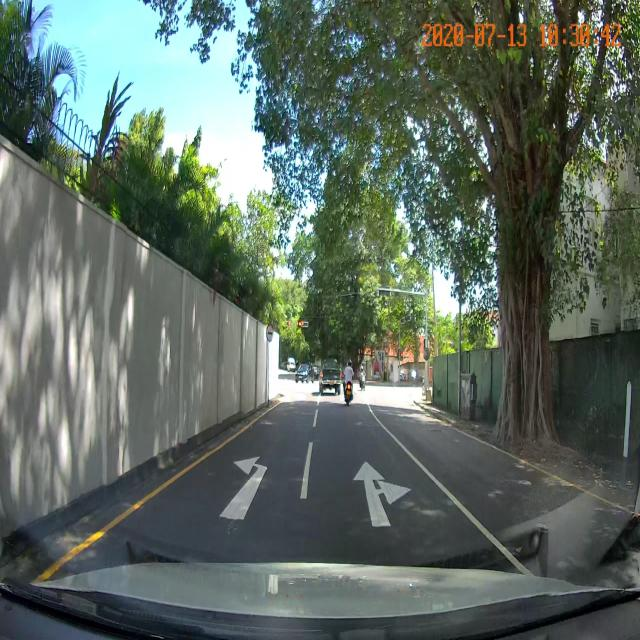Strelka vlevo: (216, 453, 270, 523)
Strelka vpered - vpravo: (351, 458, 414, 528)
